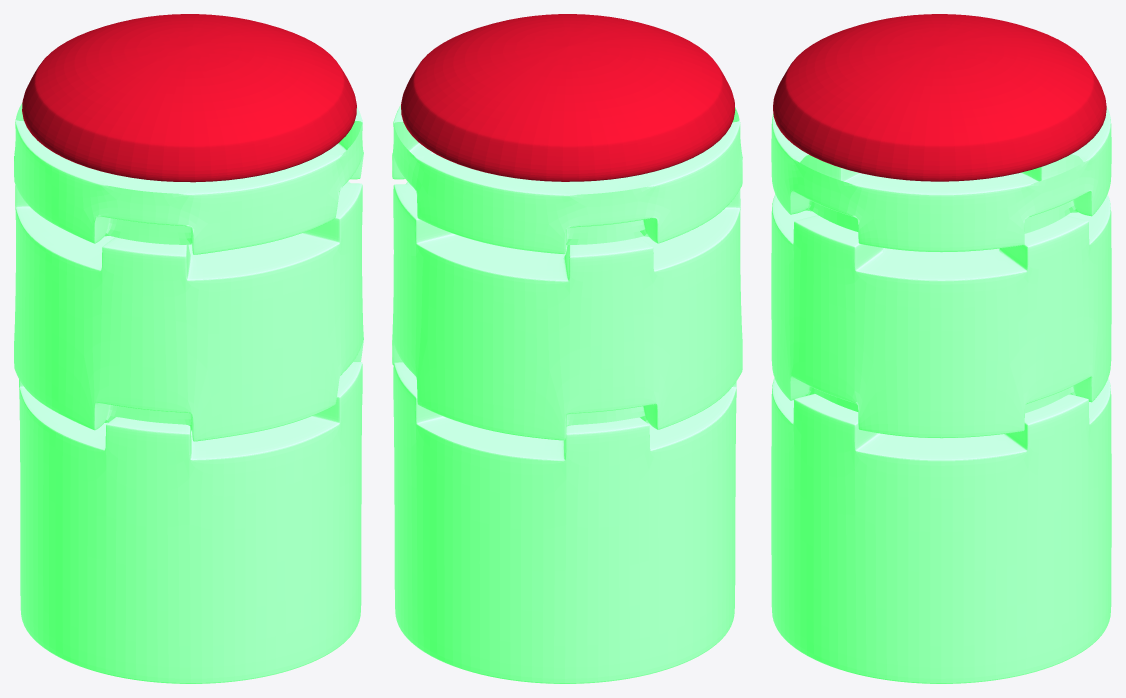
Rendered from Waste_v1_Barrel.fbx.
3 views of the same model, side by side, from view 1: azimuth 30°, elevation 25°; view 2: azimuth 150°, elevation 25°; view 3: azimuth 270°, elevation 25° (orthographic).
Parts seen in each view (by area): view 1: Cylinder.002; view 2: Cylinder.002; view 3: Cylinder.002.
Part boxes in pixels (x1=…): Cylinder.002: x1=14, y1=14, x2=363, y2=683; Cylinder.002: x1=392, y1=14, x2=742, y2=683; Cylinder.002: x1=771, y1=14, x2=1111, y2=683.
Size of the model in its own units: 29.62 by 53.7 by 29.25.
